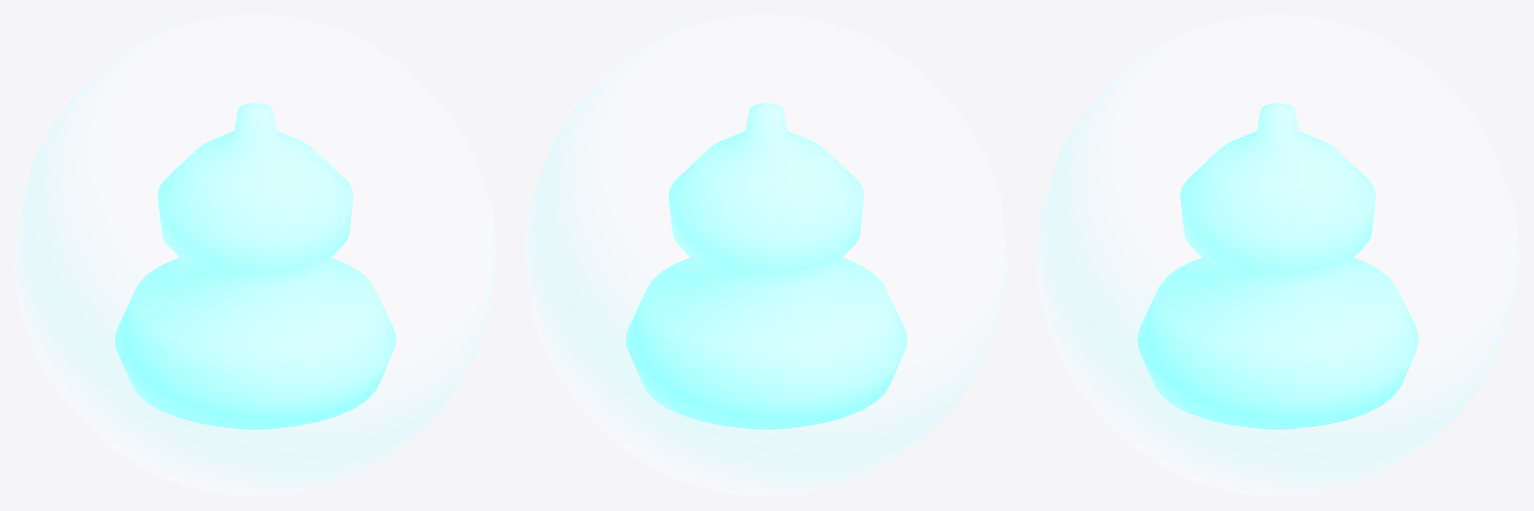
File: Orb_05_青蓝灵珠.glb
The picture shows the model from 3 angles, left to right: view 1: azimuth 30°, elevation 25°; view 2: azimuth 150°, elevation 25°; view 3: azimuth 270°, elevation 25°; orthographic projection.
Visible parts, largest first — view 1: Sphere, SpiritGourd; view 2: Sphere, SpiritGourd; view 3: Sphere, SpiritGourd.
Boxes of the visible parts, x1,y1,x2,y2 form: Sphere: (14, 14, 496, 496); SpiritGourd: (114, 103, 396, 429); Sphere: (525, 14, 1007, 496); SpiritGourd: (625, 103, 907, 429); Sphere: (1036, 14, 1519, 496); SpiritGourd: (1137, 103, 1418, 429).
Size of the model in its own units: 0.96 by 0.96 by 0.96.
